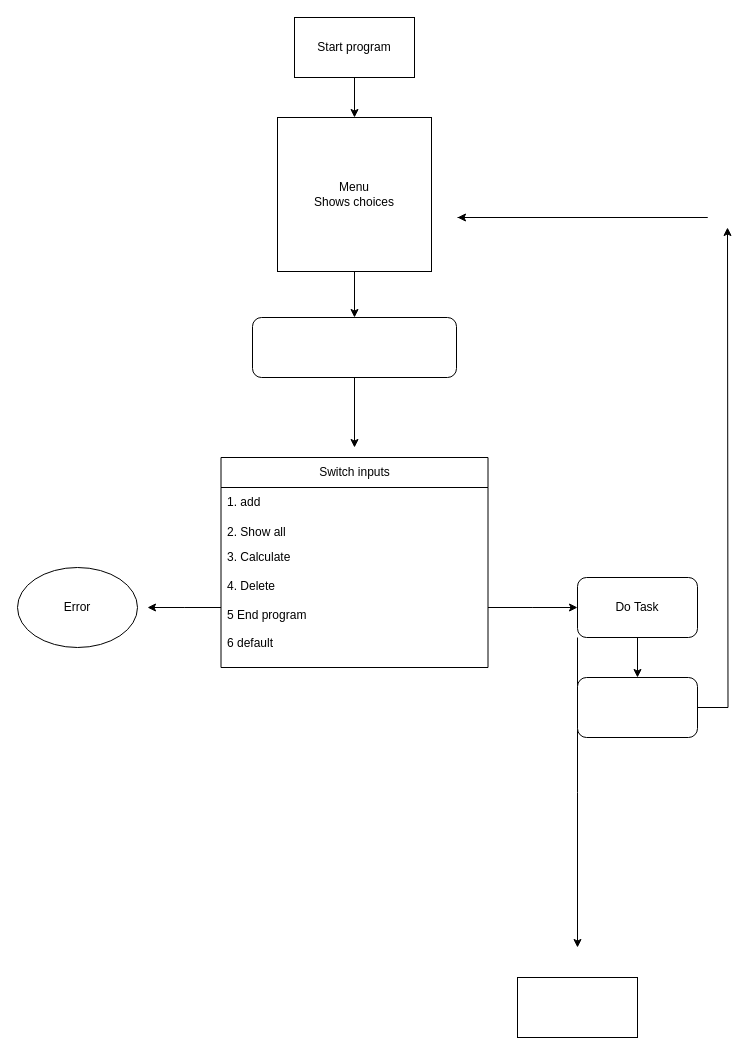
Some shapes in this 754 by 1055 pixel diagram are drawn without their labels. Each missing label, with the centre of its shape:
End Program: the point at 577,1007
Loop to menu: the point at 637,707
Users Input: the point at 354,347
